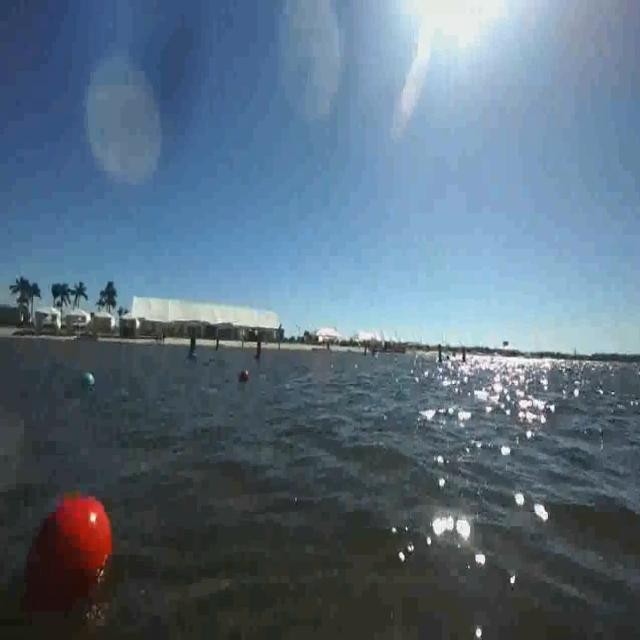green-buoy: (82, 371, 92, 386)
green-column-buoy: (186, 336, 198, 360)
red-buoy: (17, 483, 126, 624), (239, 369, 247, 381)
red-column-buoy: (254, 338, 263, 361)
